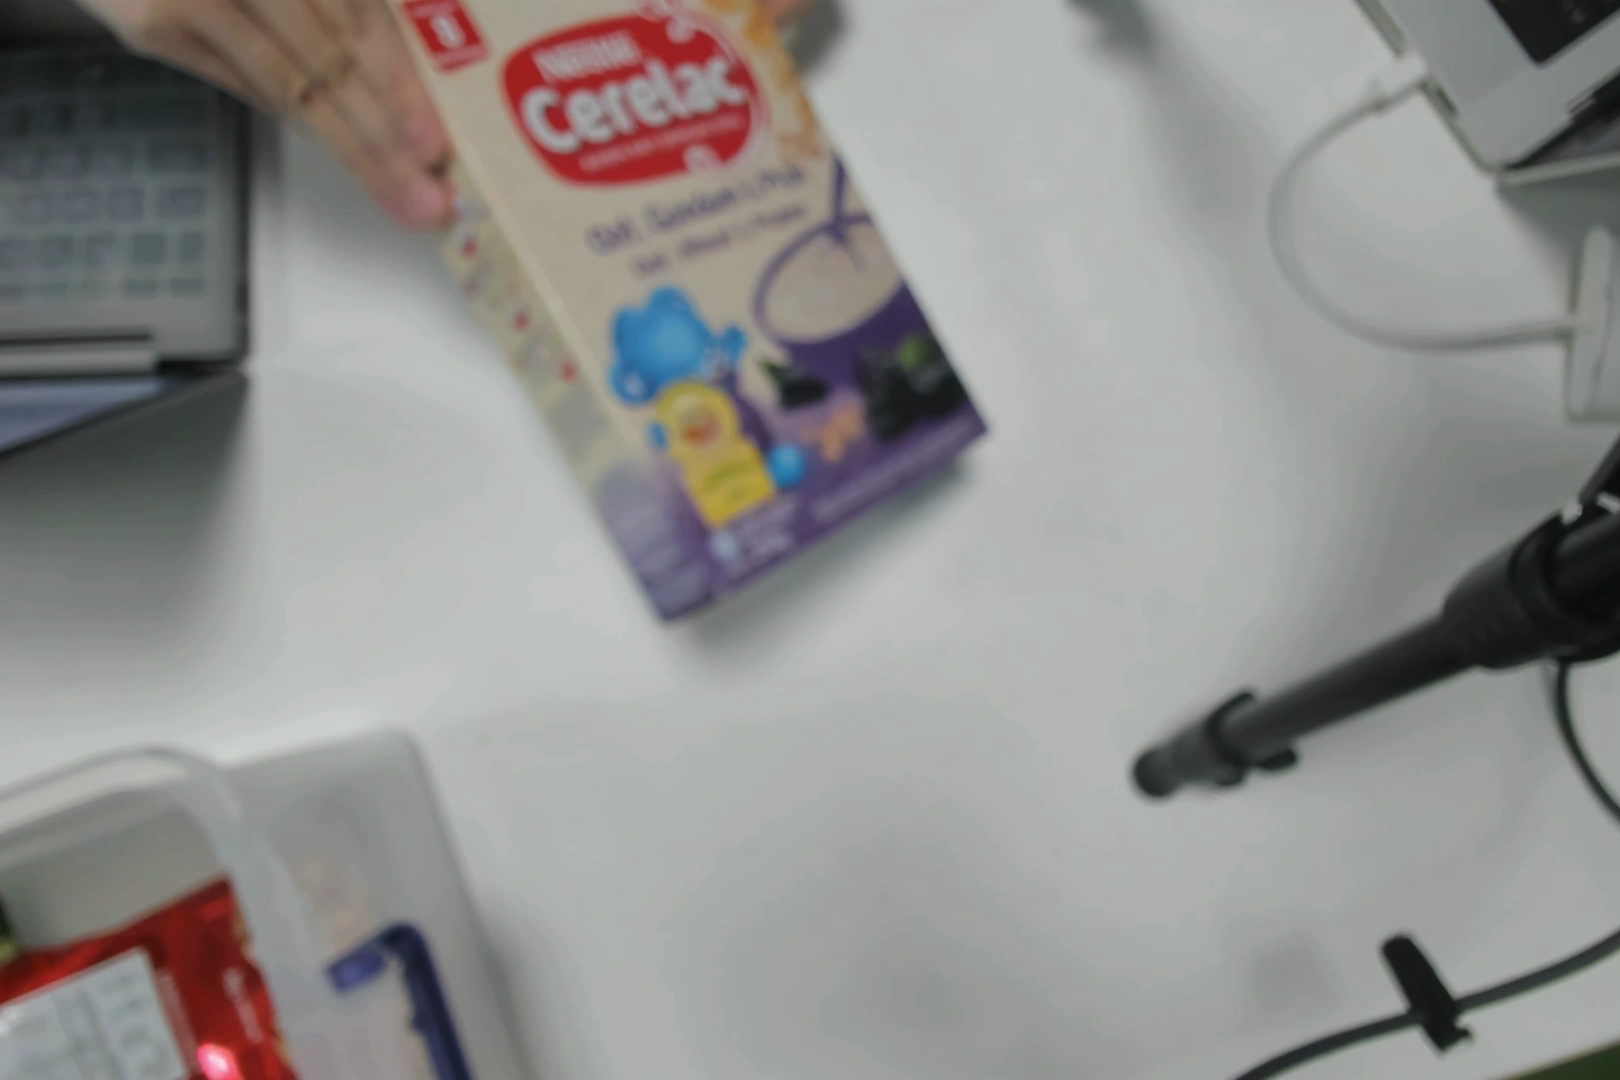d: (438, 8, 978, 612)
